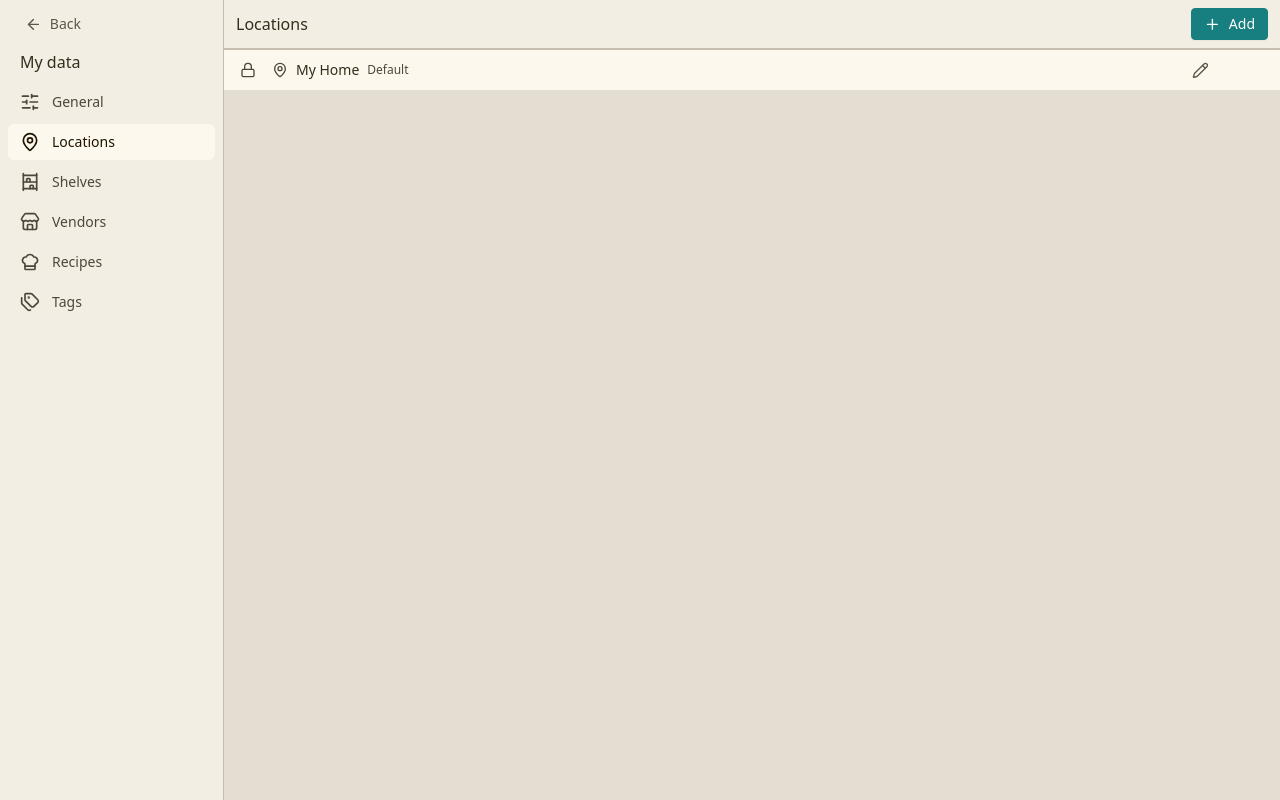
Test: Settings locations page › user can create a location
Check: the text "My Home" is shown, box [296,61,359,79]
// When the user opens the add dialog, types a name, and submits
Click the button with aria-label "add location".
click(1230, 24)  # box [1191,8,1268,40]
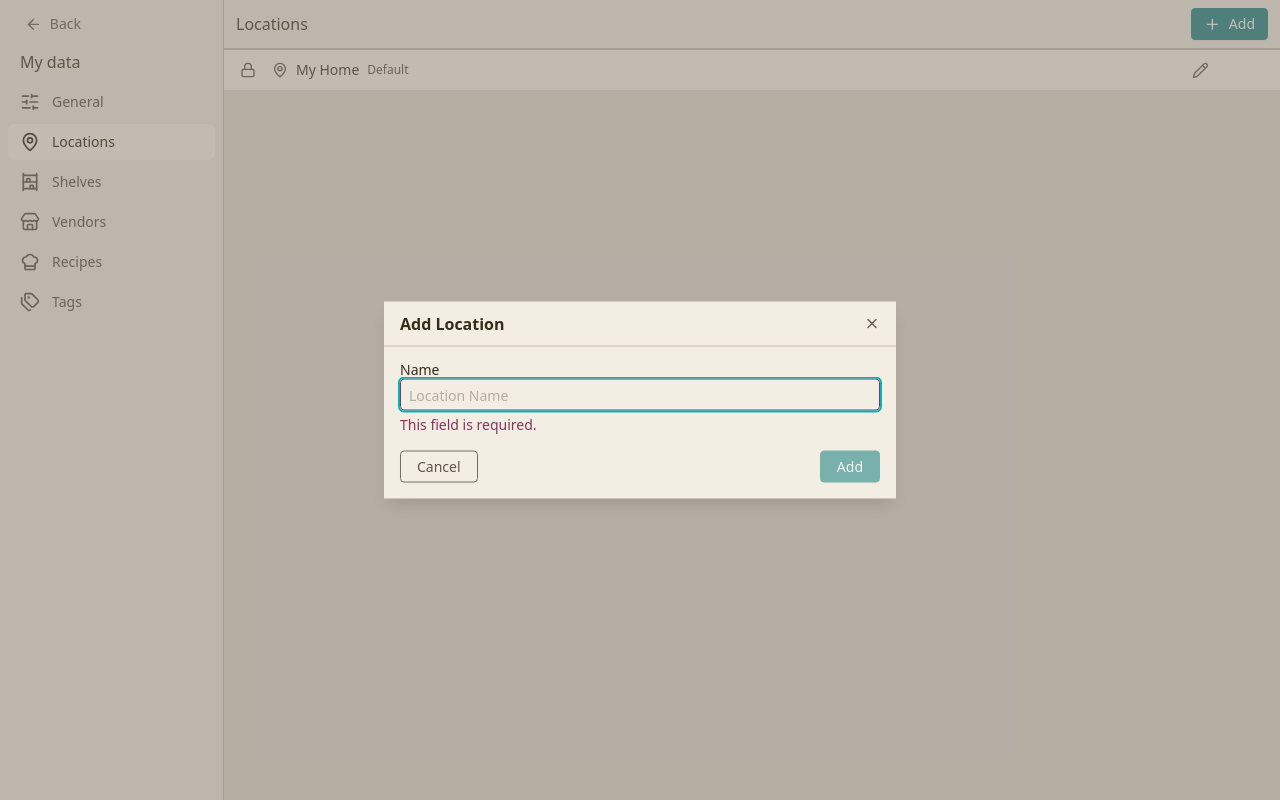
Type "Office" into the field labelled "Name".
click(640, 394); type("Office")  # box [400,378,880,410]
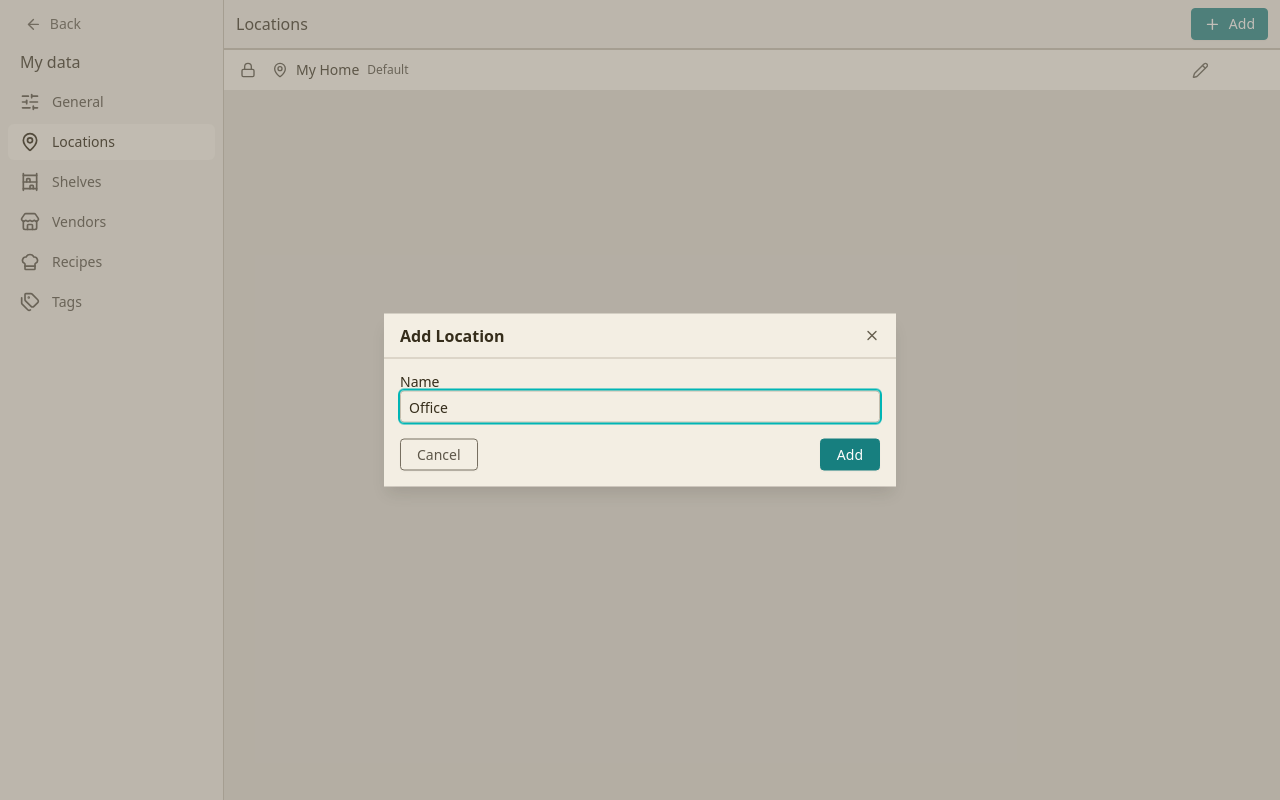
Click the button "Add".
click(850, 454)  # box [820,438,880,470]
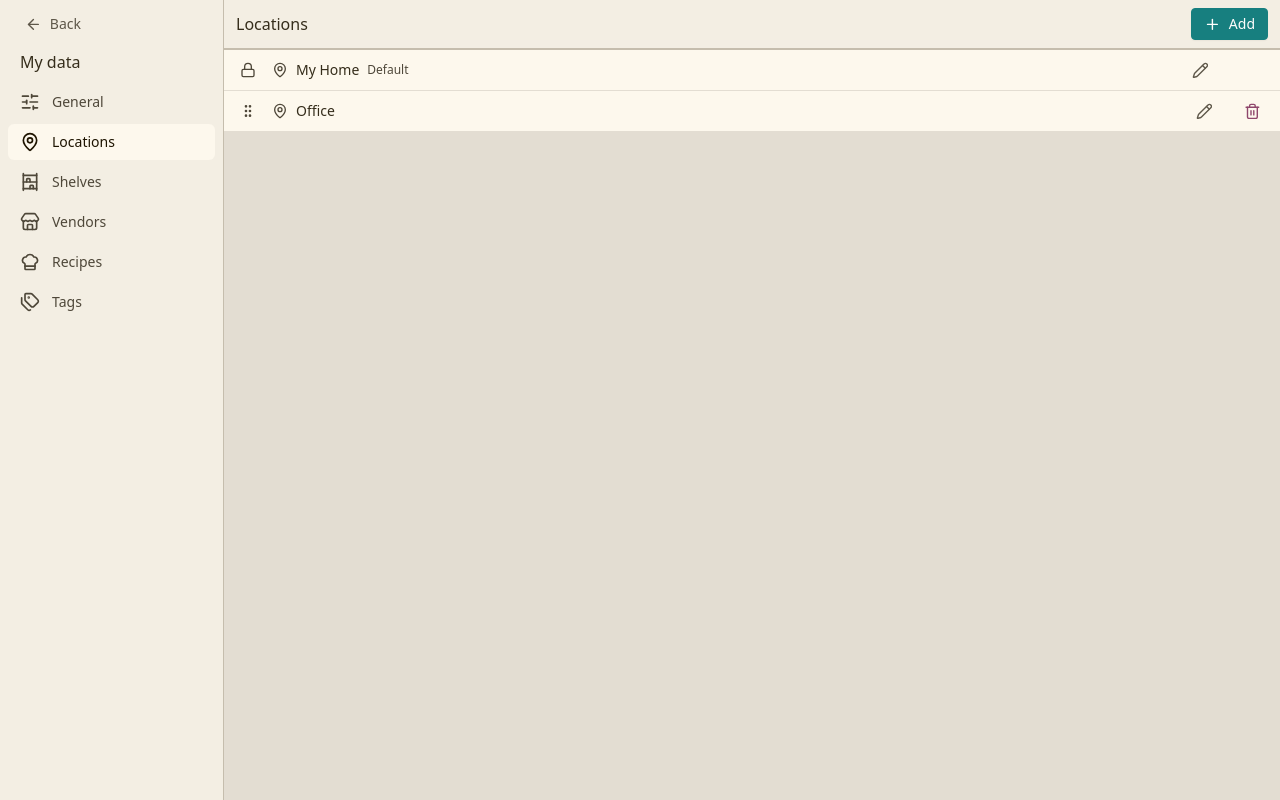
Check: the text "Office" is shown, box [296,102,335,120]
